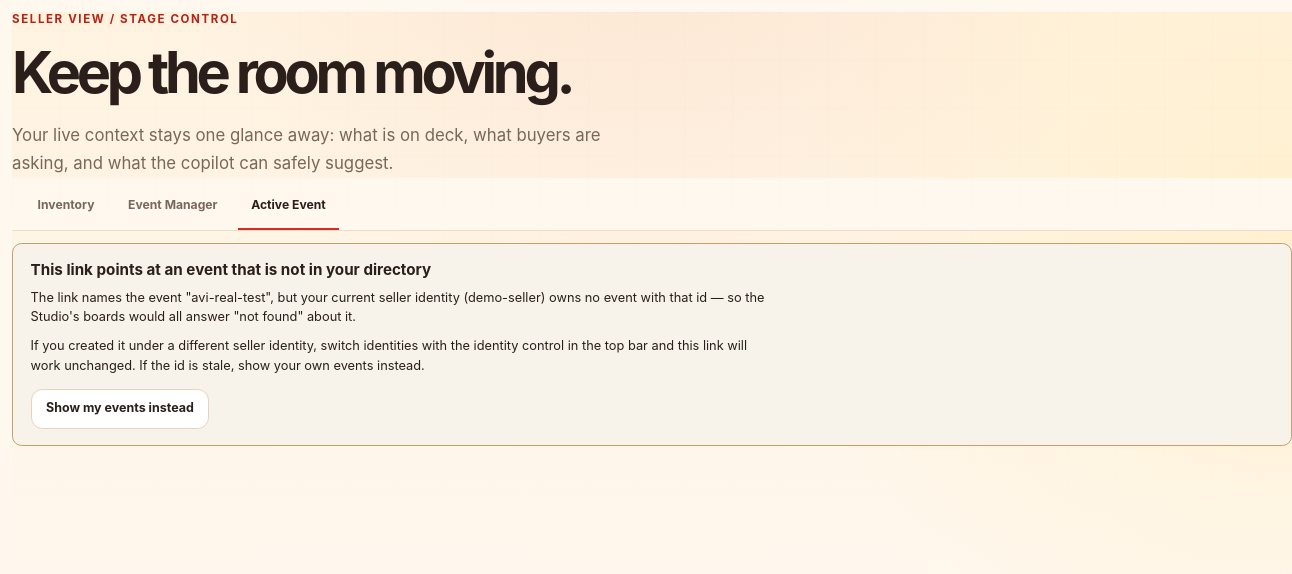
Test: Studio stranded deep-link (WI-39864) › recovers through the action: the pin drops and the Studio comes back up
Click the button "Show my events instead" at (120, 408), box [31, 388, 209, 428]
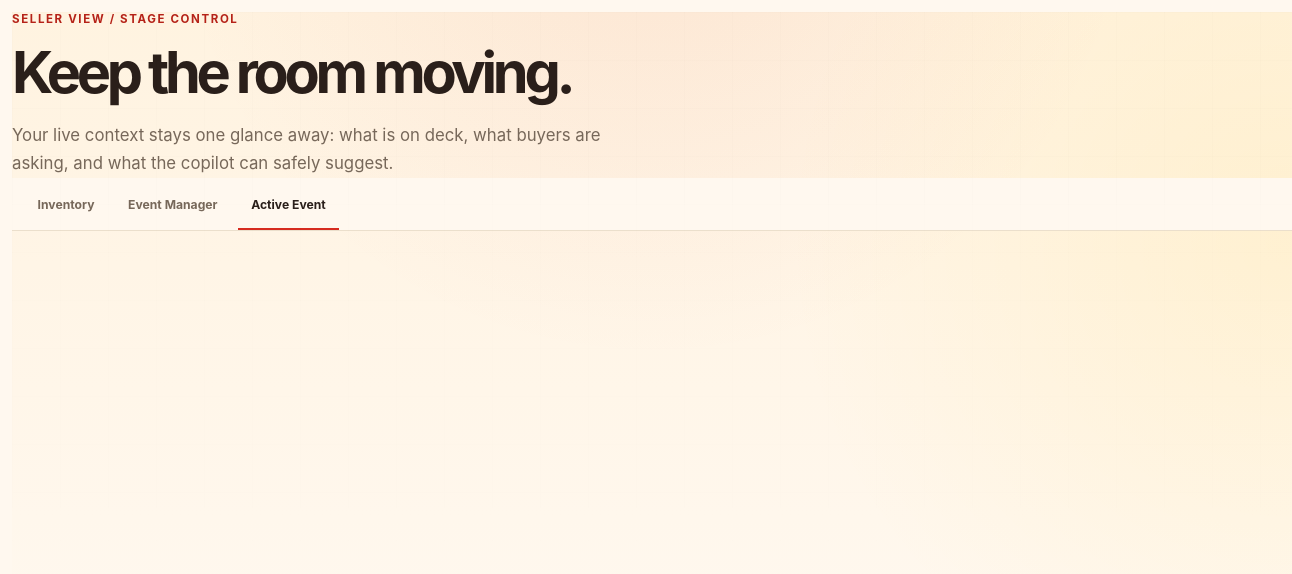
Check: the message with class "studio-stranded-pin" is gone
